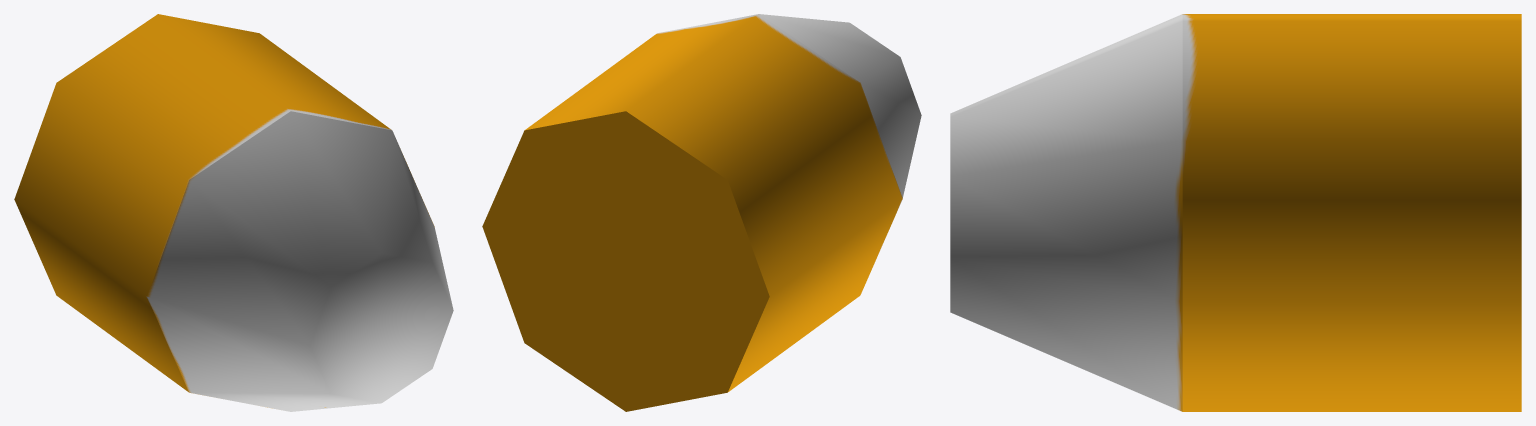
File: Bullet.fbx
3 views of the same model, side by side, from view 1: azimuth 30°, elevation 25°; view 2: azimuth 150°, elevation 25°; view 3: azimuth 270°, elevation 25° (orthographic). The views are drawn at different scales.
Visible parts, largest first — view 1: bulletMD; view 2: bulletMD; view 3: bulletMD.
Part boxes in pixels (box(x1,y1,x2,y2)): bulletMD: box(14, 14, 453, 411); bulletMD: box(482, 14, 921, 411); bulletMD: box(950, 14, 1521, 411).
Bounding box in the file's own units: 10 × 10 × 13.48.
1 material, 1 textured.
